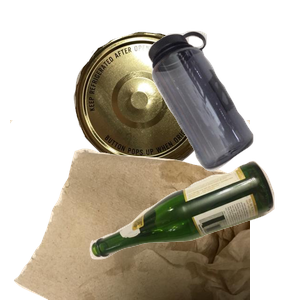glass: (87, 158, 300, 300)
metal: (71, 29, 276, 193)
plastic: (145, 28, 300, 192)
trash: (10, 120, 250, 300)
